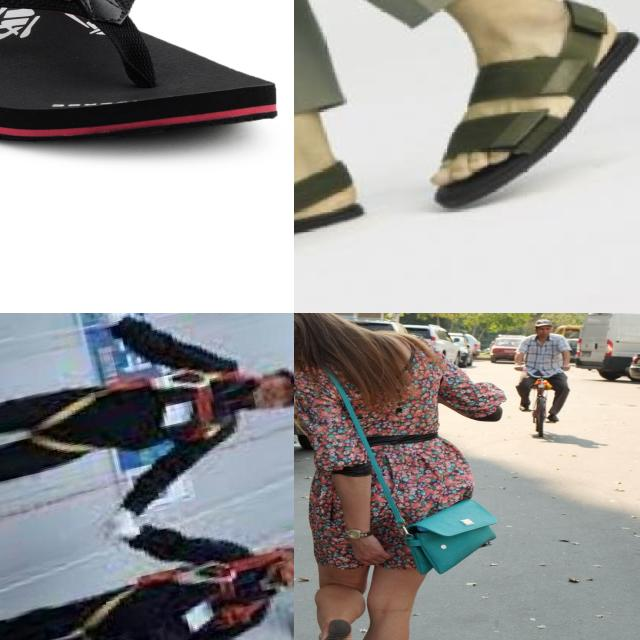Barefoots: (318, 619, 366, 640)
Harness: (18, 350, 256, 478), (69, 549, 279, 640)
Sandals: (428, 0, 640, 218), (0, 0, 280, 146), (294, 154, 368, 293)
